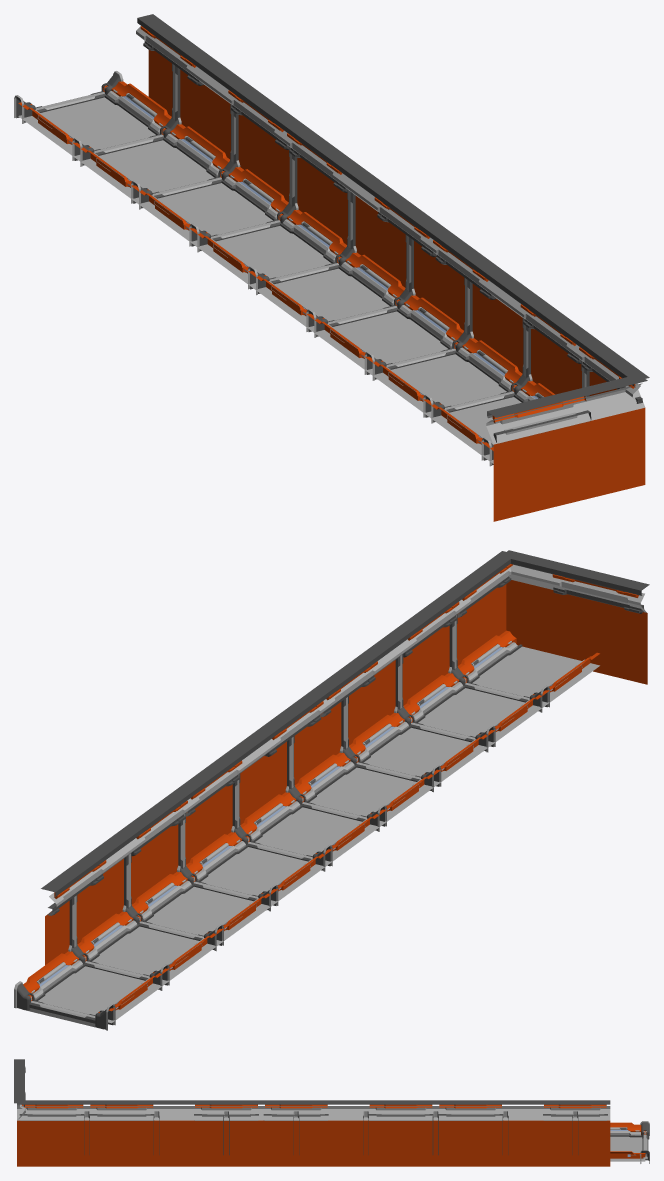
Rendered from floor_lv01_room_01_corridor_a.fbx.
3 renders of one model, top to bottom at view 1: azimuth 30°, elevation 25°; view 2: azimuth 150°, elevation 25°; view 3: azimuth 270°, elevation 25°, orthographic. The views are drawn at different scales.
Parts seen in each view (by area): view 1: SmartCombine_32; view 2: SmartCombine_32; view 3: SmartCombine_32.
Part boxes in pixels (<box>): SmartCombine_32: <box>14,14,649,521</box>; SmartCombine_32: <box>14,550,649,1030</box>; SmartCombine_32: <box>14,1059,649,1166</box>.
Bounding box in the file's own units: 500 × 323 × 2942.
